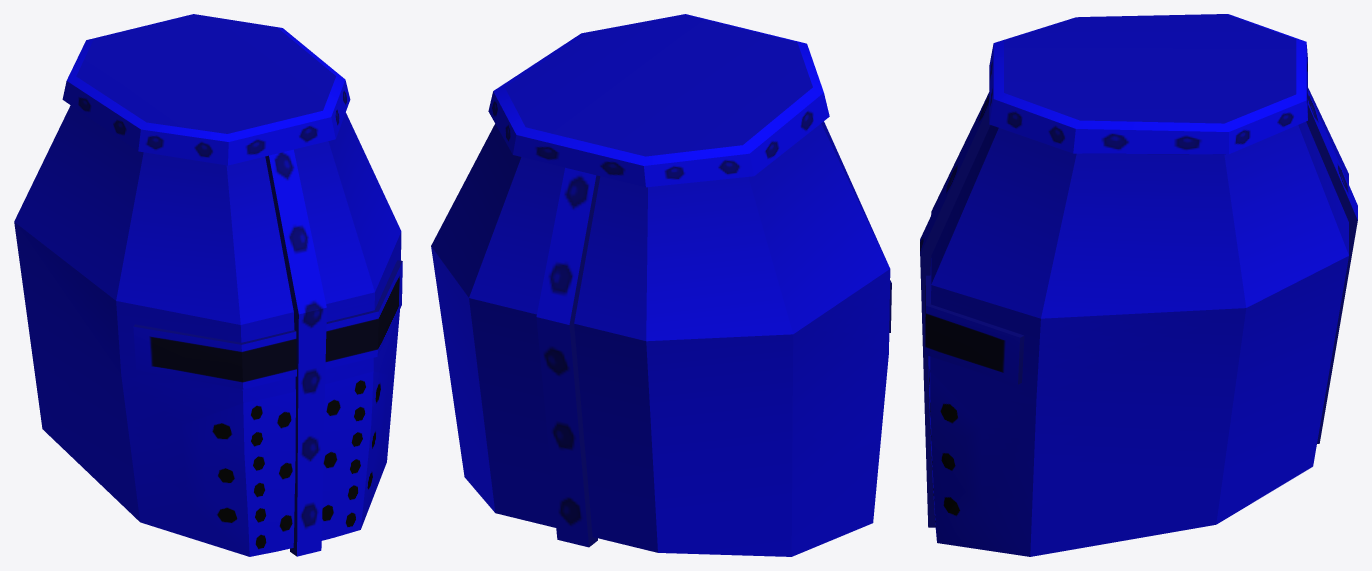
The model's file is GreatHelm.fbx.
3 renders of one model, left to right at view 1: azimuth 30°, elevation 25°; view 2: azimuth 150°, elevation 25°; view 3: azimuth 270°, elevation 25°, orthographic. The views are drawn at different scales.
Visible parts, largest first — view 1: GreatHelm; view 2: GreatHelm; view 3: GreatHelm.
Boxes of the visible parts, x1,y1,x2,y2 form: GreatHelm: (14, 14, 402, 556); GreatHelm: (431, 14, 891, 556); GreatHelm: (920, 14, 1357, 556).
Bounding box in the file's own units: 27.96 × 35.57 × 31.05.
